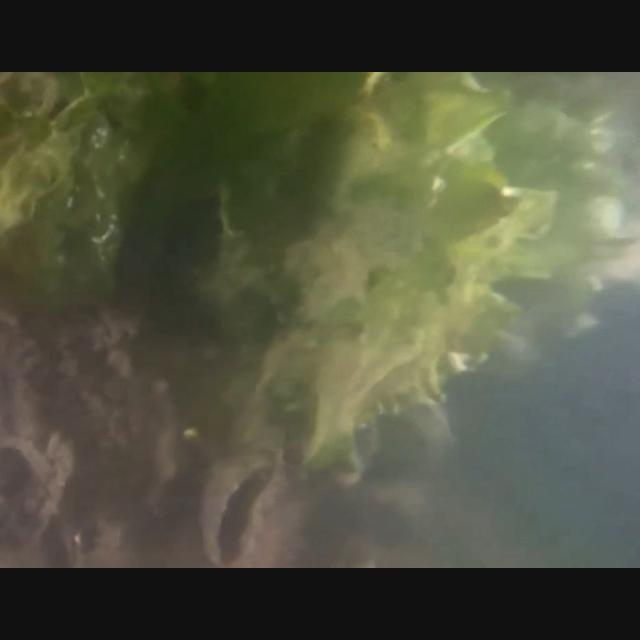Oyster-Open: (200, 444, 288, 568)
